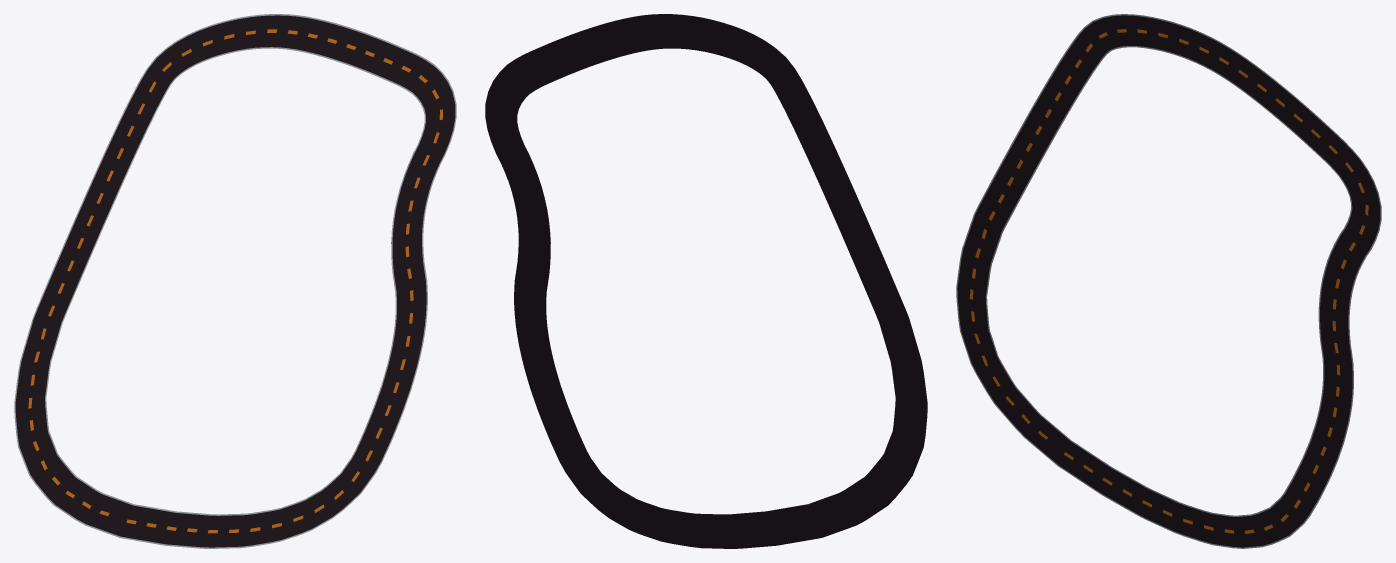
The model's file is track.obj.
3 views of the same model, side by side, from view 1: azimuth 30°, elevation 25°; view 2: azimuth 150°, elevation 25°; view 3: azimuth 330°, elevation 25° (orthographic). The views are drawn at different scales.
Bounding box in the file's own units: 13.34 × 15.38 × 0.002.
3 materials, 3 textured.
